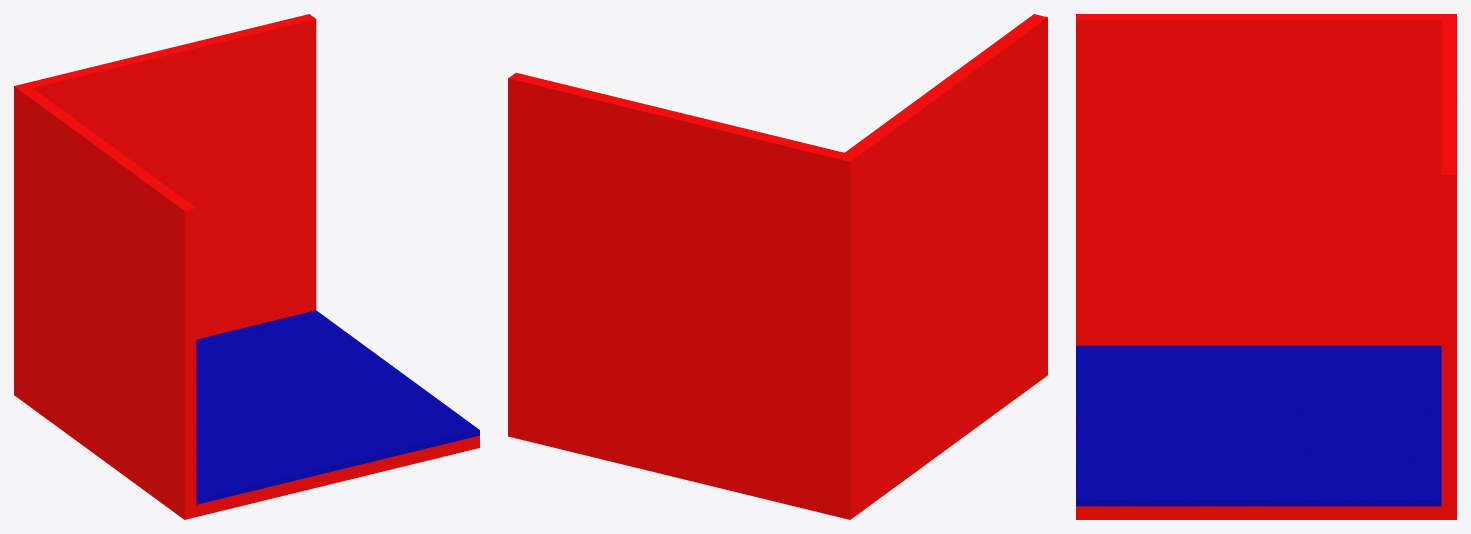
The model's file is background.glb.
The picture shows the model from 3 angles, left to right: view 1: azimuth 30°, elevation 25°; view 2: azimuth 150°, elevation 25°; view 3: azimuth 270°, elevation 25°; orthographic projection. The views are drawn at different scales.
Visible parts, largest first — view 1: room3_wall; view 2: room3_wall; view 3: room3_wall.
Part boxes in pixels (box(x1,y1,x2,y2)): room3_wall: box(14, 14, 479, 519); room3_wall: box(508, 14, 1047, 519); room3_wall: box(1076, 14, 1456, 519).
Bounding box in the file's own units: 12.5 × 12.5 × 12.5.
1 material, 1 textured.
